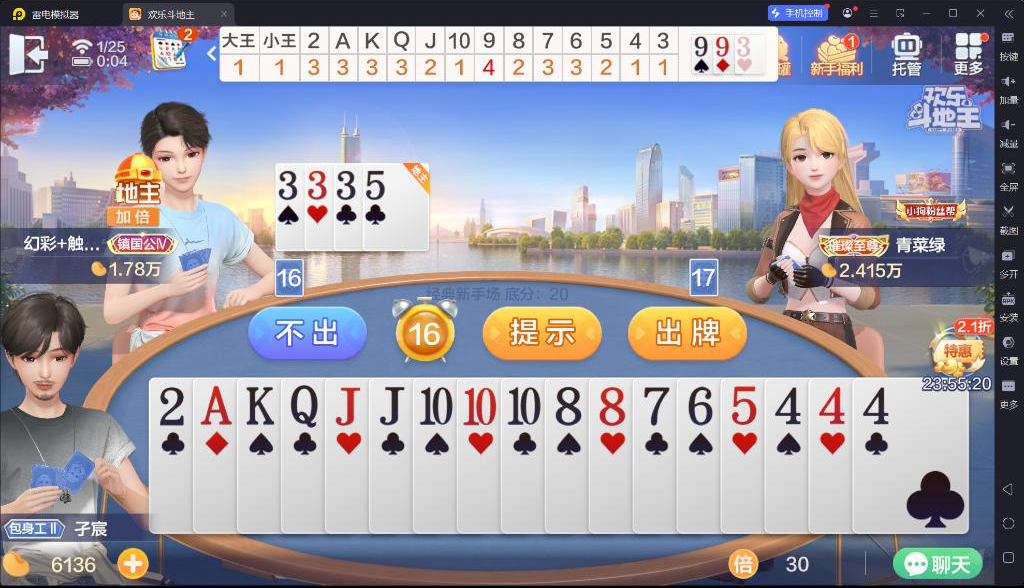A: (199, 384, 234, 427)
J: (330, 384, 364, 428), (375, 383, 408, 426)
K: (243, 383, 276, 427)
Q: (285, 383, 319, 429)
eight: (551, 384, 585, 428), (595, 384, 628, 428)
five: (728, 384, 758, 425), (364, 168, 386, 202)
four: (860, 384, 893, 426), (771, 385, 803, 426), (815, 385, 846, 426)
nine: (714, 35, 730, 58), (693, 36, 708, 58)
seven: (641, 383, 671, 427)
six: (684, 384, 714, 427)
ten: (505, 384, 543, 427), (417, 384, 455, 427), (460, 384, 497, 427)
three: (277, 169, 299, 203), (306, 168, 328, 202), (336, 168, 357, 202), (736, 35, 753, 58)
two: (156, 384, 188, 428)
